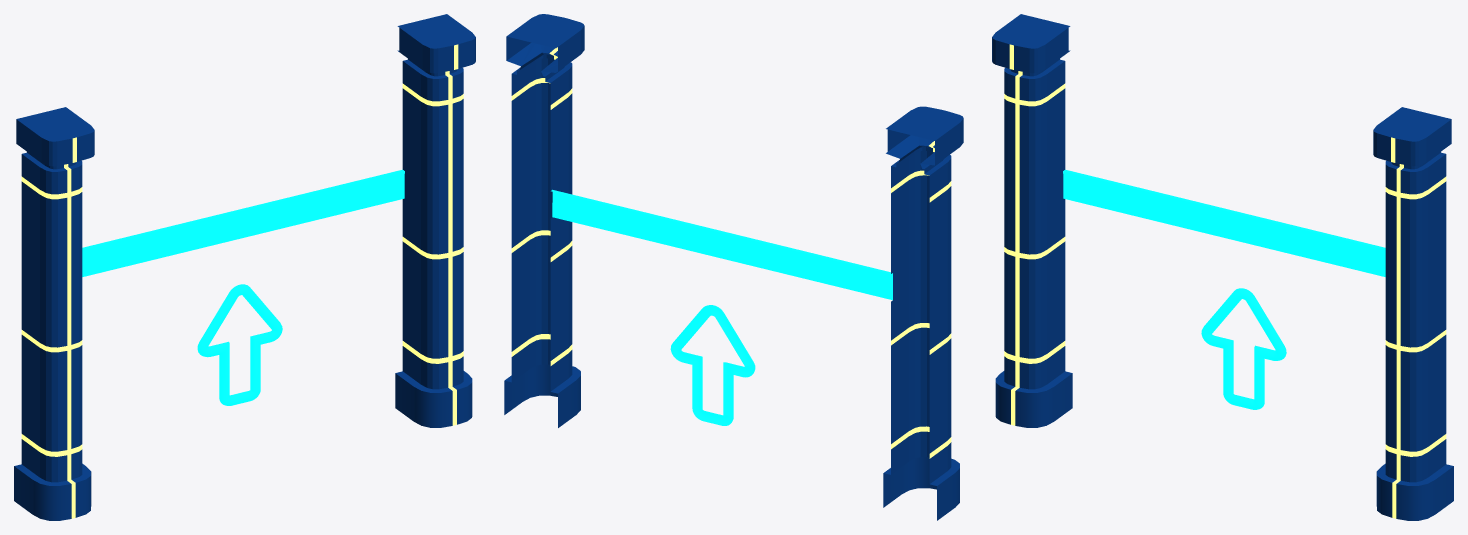
Rendered from jumpObstacle.glb.
3 views of the same model, side by side, from view 1: azimuth 30°, elevation 25°; view 2: azimuth 150°, elevation 25°; view 3: azimuth 330°, elevation 25° (orthographic).
Visible parts, largest first — view 1: Box010; view 2: Box010; view 3: Box010.
Part boxes in pixels (bbox=[...]): Box010: bbox=[14, 14, 475, 520]; Box010: bbox=[504, 14, 963, 520]; Box010: bbox=[992, 14, 1453, 520].
Size of the model in its own units: 0.0902 by 0.0756 by 0.0122.
